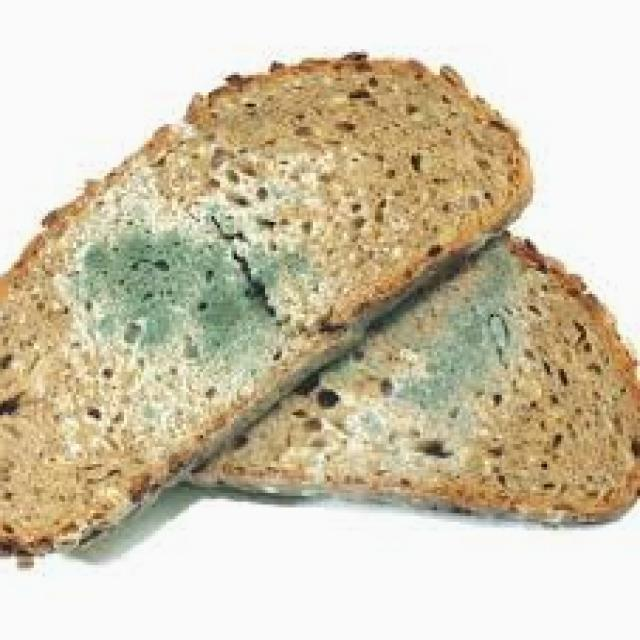organic: (0, 61, 526, 546), (203, 235, 638, 498)
